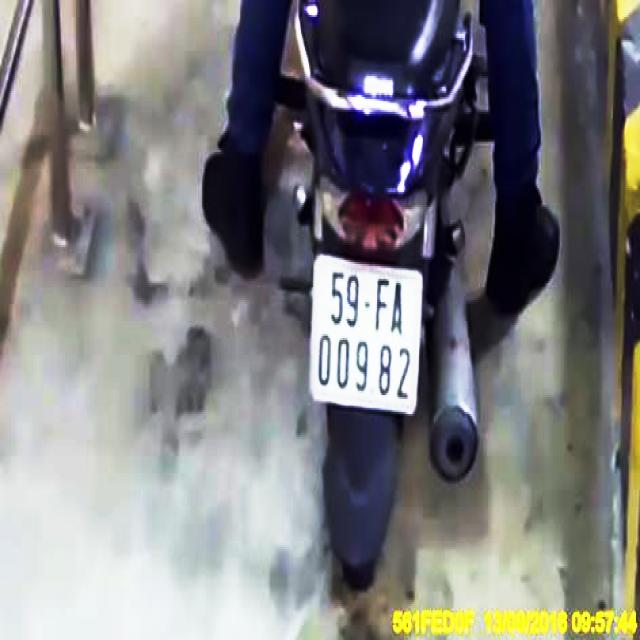license_plate: (312, 255, 423, 415)
